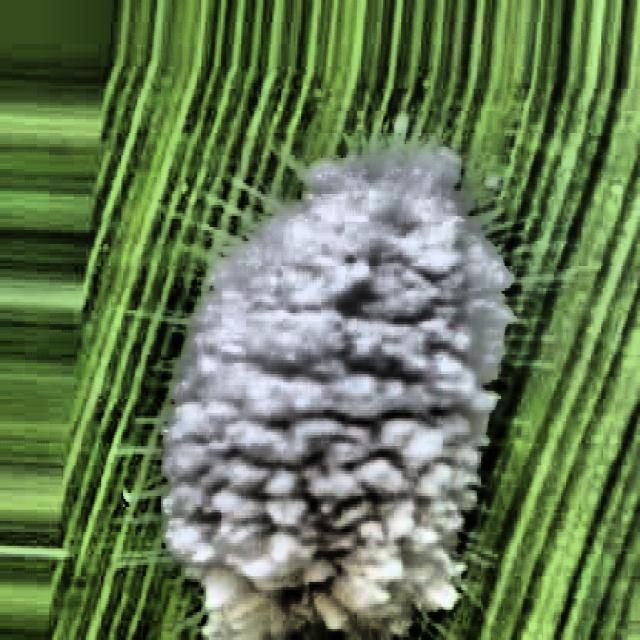Mealy-bug: (92, 50, 564, 638)
